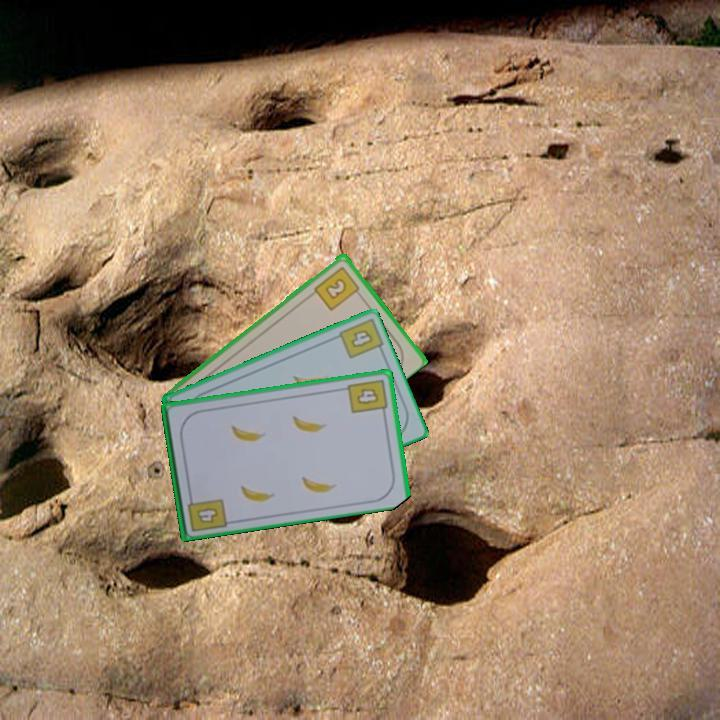2b: (310, 263, 364, 313)
4b: (184, 490, 229, 534), (344, 375, 390, 418), (347, 326, 376, 351)
